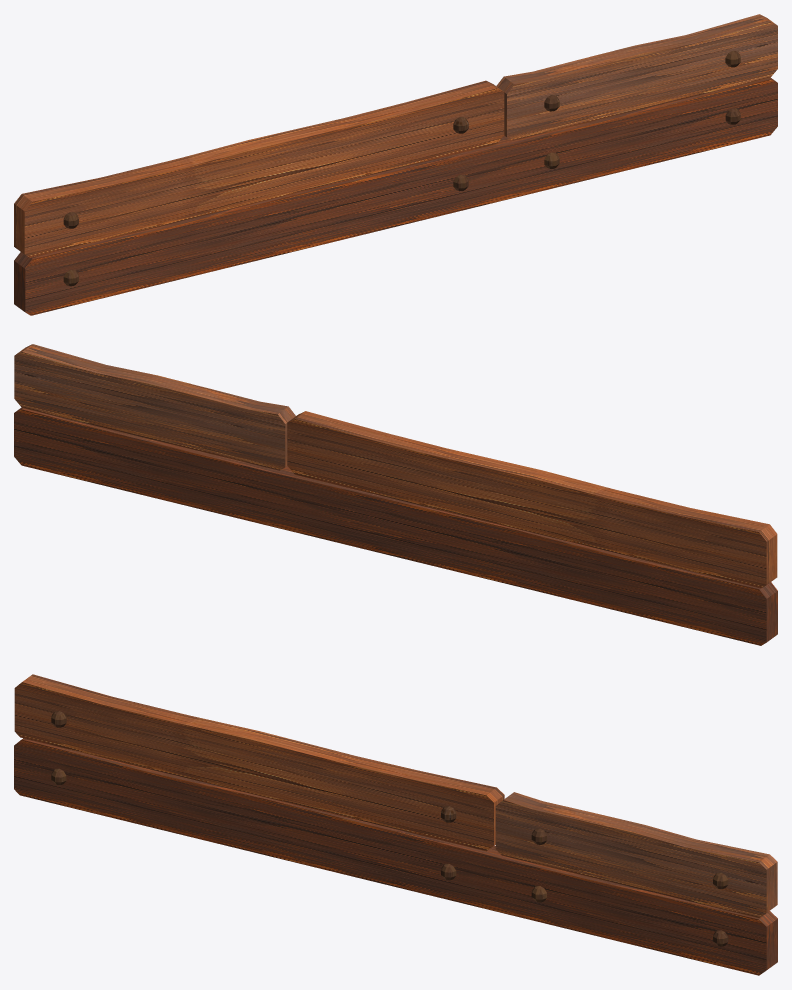
File: edge_strip__plank_root.glb
The picture shows the model from 3 angles, top to bottom: view 1: azimuth 30°, elevation 25°; view 2: azimuth 150°, elevation 25°; view 3: azimuth 330°, elevation 25°; orthographic projection.
Parts seen in each view (by area): view 1: model; view 2: model; view 3: model.
Part boxes in pixels (x1,y1,x2,y2): model: (14, 14, 777, 315); model: (14, 344, 777, 645); model: (14, 674, 777, 975).
Bounding box in the file's own units: 1.99 × 0.286 × 0.0717.
4 materials, 4 textured.
